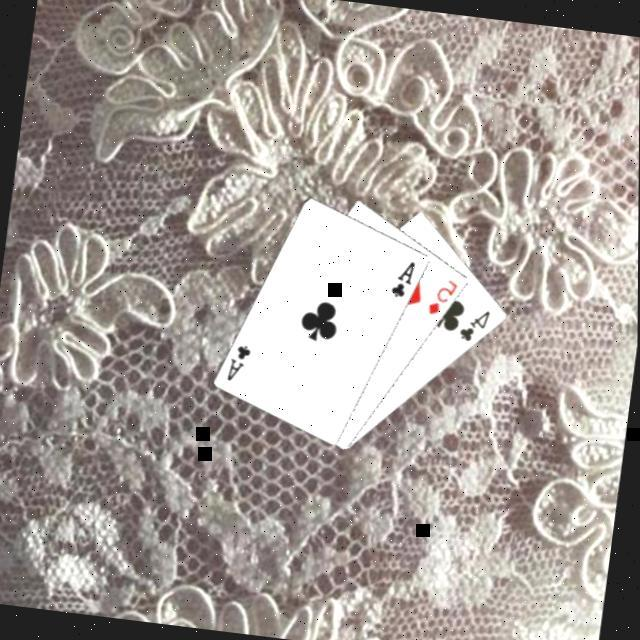4C: (457, 303, 495, 346)
5D: (426, 273, 463, 320)
AC: (389, 254, 421, 301), (226, 339, 257, 386)
